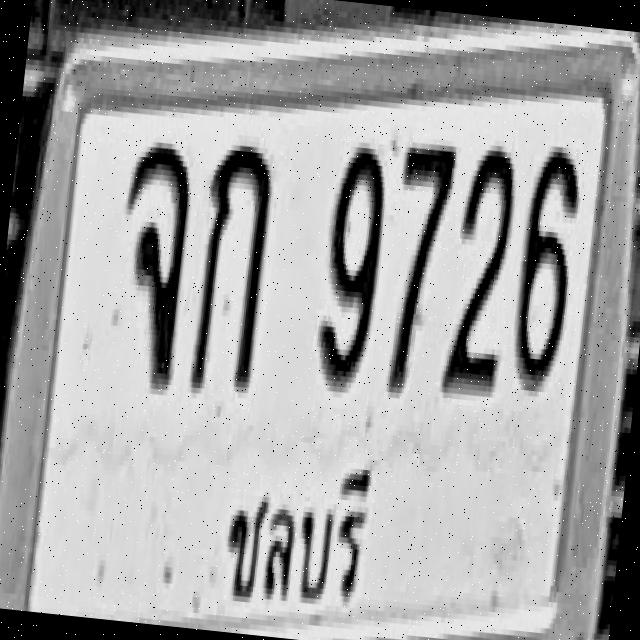10GorGai: (188, 137, 275, 393)
17ChorChan: (106, 136, 195, 388)
2: (440, 140, 519, 394)
6: (508, 139, 582, 393)
7: (379, 136, 456, 396)
9: (314, 140, 389, 389)
Chonburi: (213, 441, 380, 629)
